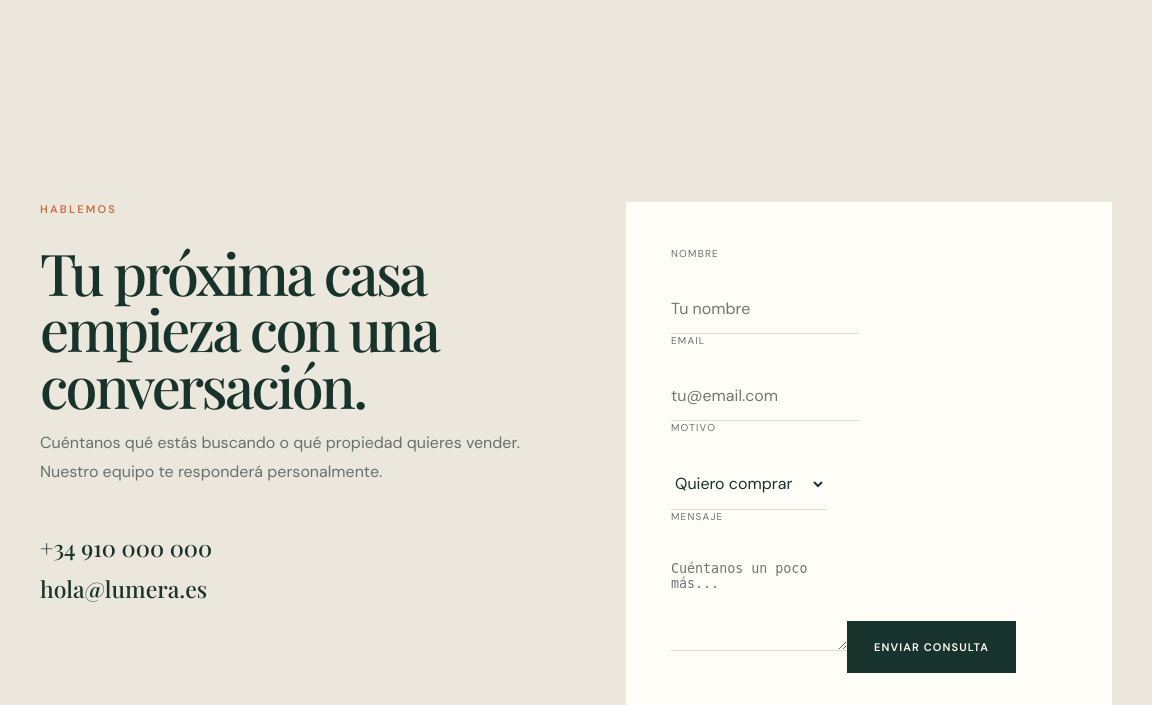
Test: ContactPage › muestra los errores de los campos obligatorios
What coordinates should you click on to do the following:
click the button "Enviar consulta"
I would click on:
 (932, 647)
Its box is [847,621,1016,673].
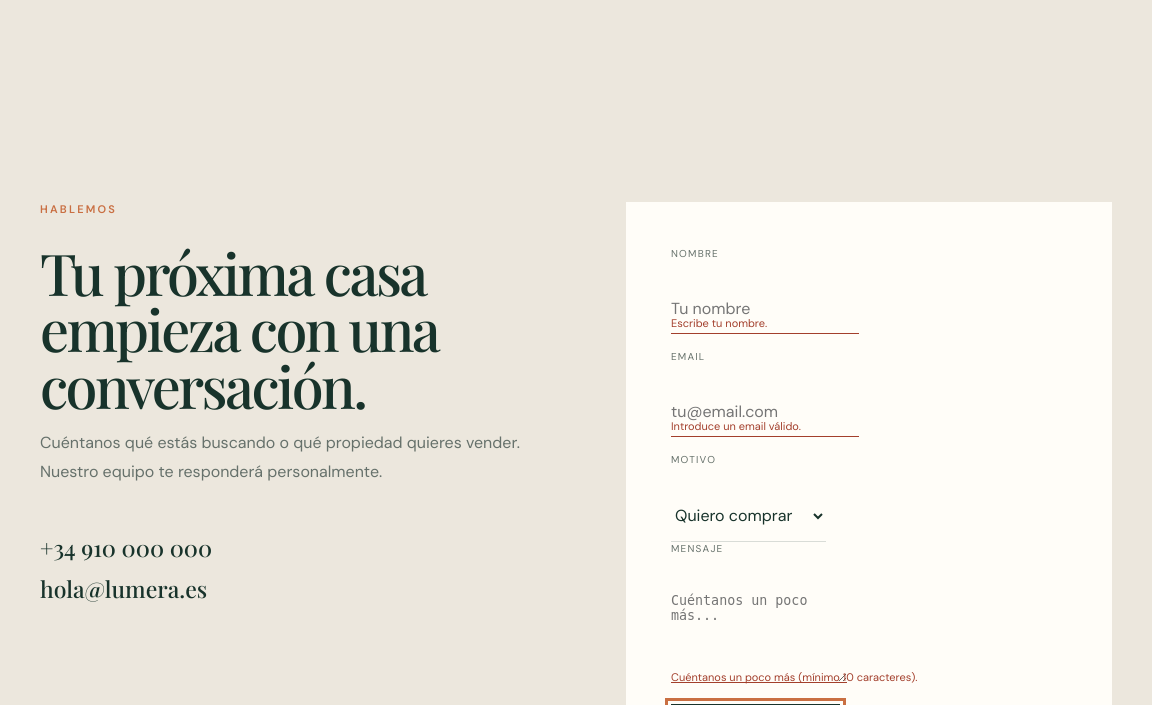
Now the text "Escribe tu nombre." is shown, box [671,316,767,330]
Now the text "Introduce un email válido." is shown, box [671,419,801,433]
Now the text "Cuéntanos un poco más (mínimo 10 caracteres)." is shown, box [671,670,918,684]
